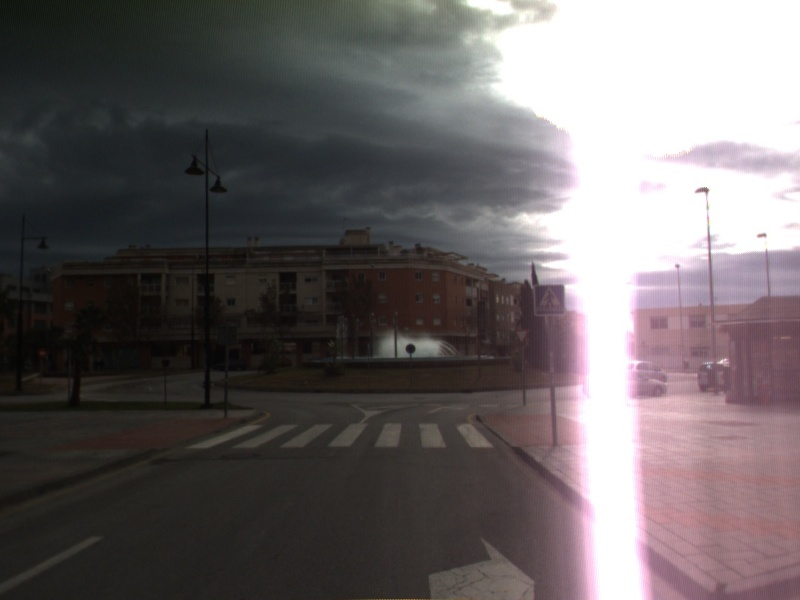RIGHT: (424, 532, 539, 600)
